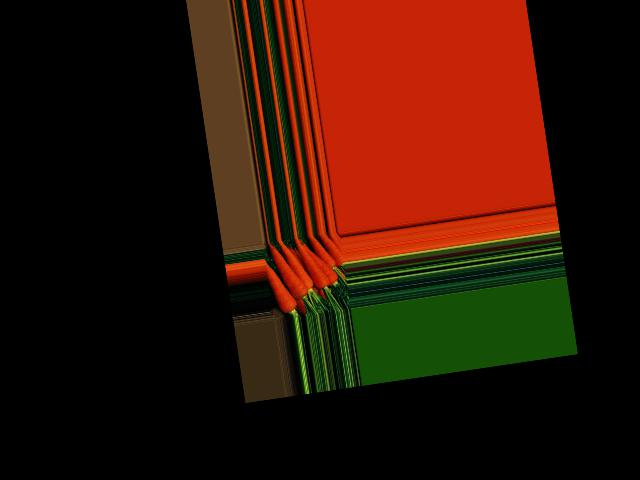carrot: (310, 234, 339, 274)
